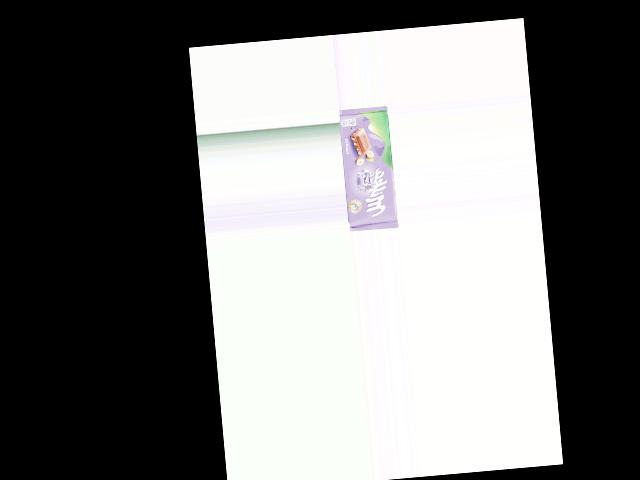chocolate: (337, 105, 398, 231)
